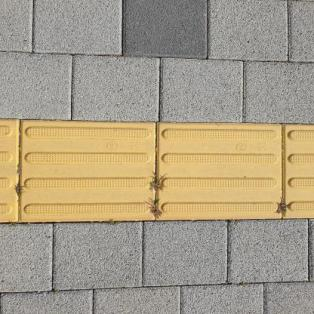Podoctatil: (0, 112, 313, 228)
